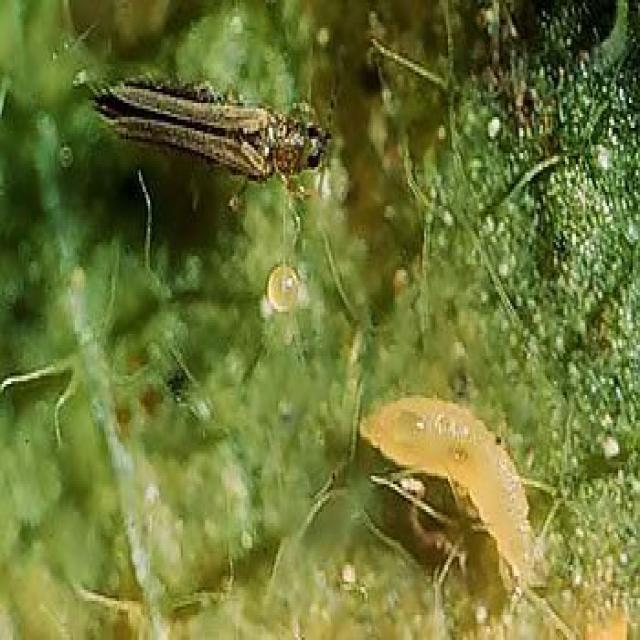Thrips: (83, 18, 347, 219)
